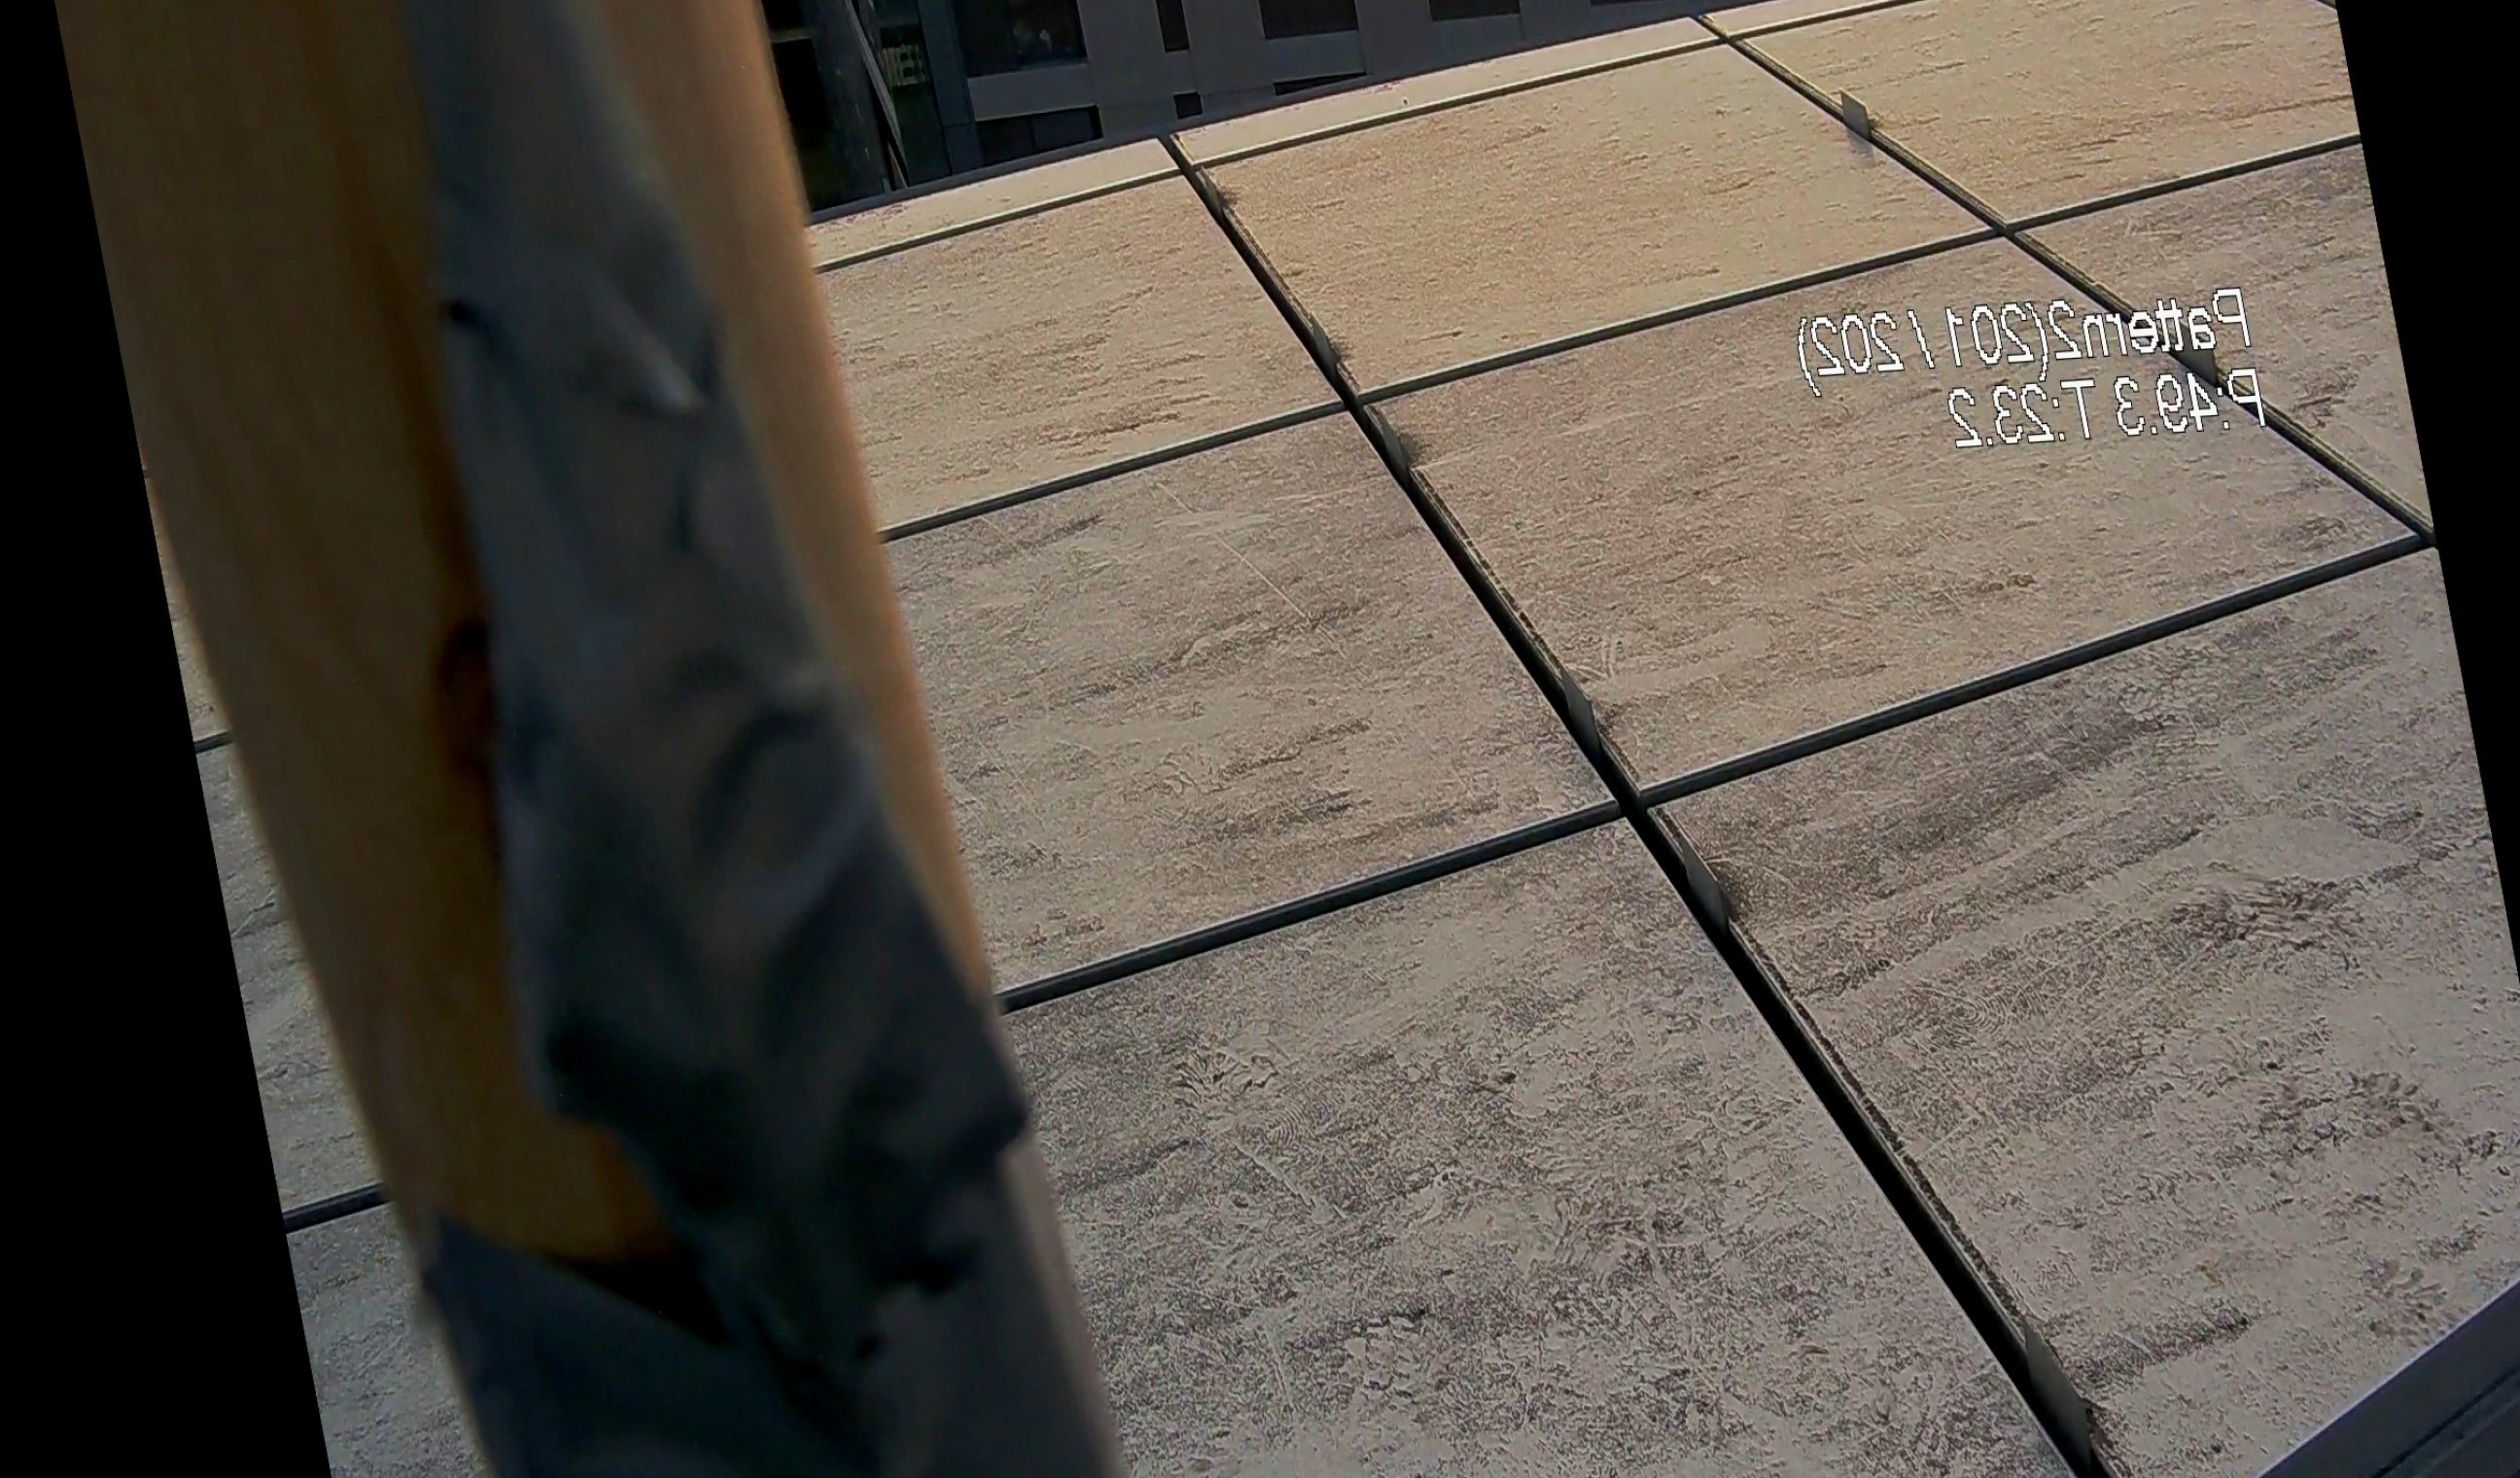Other: (93, 0, 1169, 1478)
